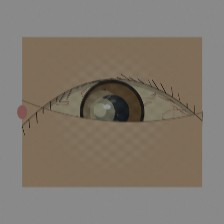corneal_ulcer: (79, 94, 126, 131)
